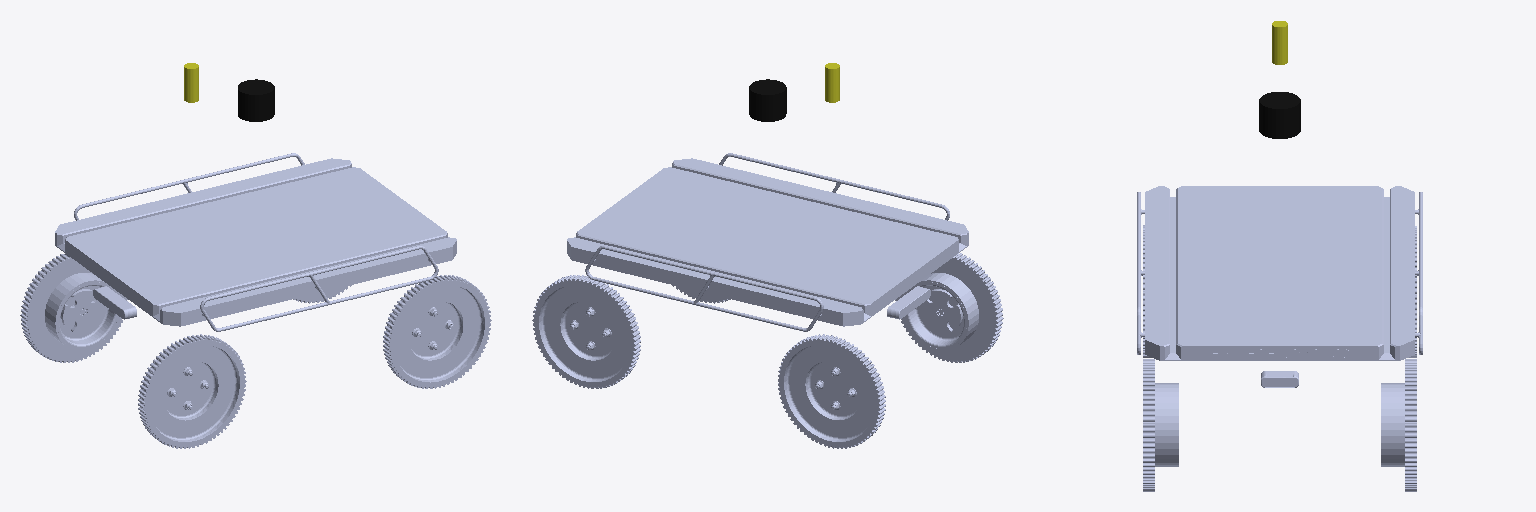
The robot description file, URDF, robot "cropMap_urdf":
<?xml version="1.0" ?>
<!-- =================================================================================== -->
<!-- |    This document was autogenerated by xacro from robot.urdf.xacro               | -->
<!-- |    EDITING THIS FILE BY HAND IS NOT RECOMMENDED                                 | -->
<!-- =================================================================================== -->
<robot name="cropMap_urdf">
  <!-- Base Link -->
  <link name="base_link">
    <inertial>
      <origin rpy="0 0 0" xyz="0.018582 -0.00058815 -0.099852"/>
      <mass value="32.31"/>
      <inertia ixx="0.92" ixy="0" ixz="0" iyy="3.12" iyz="0" izz="2.87"/>
    </inertial>
    <visual>
      <origin rpy="0 0 0" xyz="0 0 0"/>
      <geometry>
        <mesh filename="model://robot_description/meshes/base_link.STL"/>
      </geometry>
      <material name="">
        <color rgba="0.79216 0.81961 0.93333 1"/>
      </material>
    </visual>
    <collision>
      <origin rpy="0 0 0" xyz="0 0 0"/>
      <geometry>
        <mesh filename="model://robot_description/meshes/base_link.STL"/>
      </geometry>
    </collision>
  </link>
  <!-- Base Footprint -->
  <link name="base_footprint"/>
  <joint name="base_footprint_ref_joint" type="fixed">
    <origin rpy="0 0 0" xyz="0 0 .25"/>
    <parent link="base_footprint"/>
    <child link="base_link"/>
    <!-- Fixed typo: was "childggg" -->
    <axis xyz="0 1 0"/>
  </joint>
  <!-- Front Right Wheel -->
  <link name="wheel_front_right">
    <inertial>
      <origin rpy="0 0 0" xyz="-3.8916E-11 0.012822 1.02E-07"/>
      <mass value="2.5"/>
      <!-- Increased mass for better physics -->
      <inertia ixx="0.04" ixy="0.0" ixz="0.0" iyy="0.05" iyz="0.0" izz="0.04"/>
    </inertial>
    <visual>
      <origin rpy="0 0 0" xyz="0 0 0"/>
      <geometry>
        <mesh filename="model://robot_description/meshes/wheel_front_right.STL"/>
      </geometry>
      <material name="">
        <color rgba="0.79216 0.81961 0.93333 1"/>
      </material>
    </visual>
    <collision>
      <origin rpy="0 0 0" xyz="0 0 0"/>
      <geometry>
        <mesh filename="model://robot_description/meshes/wheel_front_right.STL"/>
      </geometry>
    </collision>
  </link>
  <joint name="wheel_front_right_joint" type="continuous">
    <origin rpy="0 0 0" xyz="0.37976 0.2802 -0.078259"/>
    <parent link="base_link"/>
    <child link="wheel_front_right"/>
    <axis xyz="0 1 0"/>
    <dynamics damping="0.1" friction="0.1"/>
  </joint>
  <!-- Back Right Wheel -->
  <link name="wheel_back_right">
    <inertial>
      <origin rpy="0 0 0" xyz="-3.8916E-11 0.012822 1.02E-07"/>
      <mass value="2.5"/>
      <inertia ixx="0.04" ixy="0.0" ixz="0.0" iyy="0.05" iyz="0.0" izz="0.04"/>
    </inertial>
    <visual>
      <origin rpy="0 0 0" xyz="0 0 0"/>
      <geometry>
        <mesh filename="model://robot_description/meshes/wheel_back_right.STL"/>
      </geometry>
      <material name="">
        <color rgba="0.79216 0.81961 0.93333 1"/>
      </material>
    </visual>
    <collision>
      <origin rpy="0 0 0" xyz="0 0 0"/>
      <geometry>
        <mesh filename="model://robot_description/meshes/wheel_back_right.STL"/>
      </geometry>
    </collision>
  </link>
  <joint name="wheel_back_right_joint" type="continuous">
    <origin rpy="0 0 0" xyz="-0.38026 0.2802 -0.078259"/>
    <parent link="base_link"/>
    <child link="wheel_back_right"/>
    <axis xyz="0 1 0"/>
    <dynamics damping="0.1" friction="0.1"/>
  </joint>
  <!-- Back Left Wheel -->
  <link name="wheel_back_left">
    <inertial>
      <origin rpy="0 0 0" xyz="-1.02E-07 -0.012822 3.8916E-11"/>
      <mass value="2.5"/>
      <inertia ixx="0.04" ixy="0.0" ixz="0.0" iyy="0.05" iyz="0.0" izz="0.04"/>
    </inertial>
    <visual>
      <origin rpy="0 0 0" xyz="0 0 0"/>
      <geometry>
        <mesh filename="model://robot_description/meshes/wheel_back_left.STL"/>
      </geometry>
      <material name="">
        <color rgba="0.79216 0.81961 0.93333 1"/>
      </material>
    </visual>
    <collision>
      <origin rpy="0 0 0" xyz="0 0 0"/>
      <geometry>
        <mesh filename="model://robot_description/meshes/wheel_back_left.STL"/>
      </geometry>
    </collision>
  </link>
  <joint name="wheel_back_left_joint" type="continuous">
    <origin rpy="0 0 0" xyz="-0.38026 -0.2802 -0.078259"/>
    <parent link="base_link"/>
    <child link="wheel_back_left"/>
    <axis xyz="0 1 0"/>
    <dynamics damping="0.1" friction="0.1"/>
  </joint>
  <!-- Front Left Wheel -->
  <link name="wheel_front_left">
    <inertial>
      <origin rpy="0 0 0" xyz="3.8916E-11 -0.012822 1.02E-07"/>
      <mass value="2.5"/>
      <inertia ixx="0.04" ixy="0.0" ixz="0.0" iyy="0.05" iyz="0.0" izz="0.04"/>
    </inertial>
    <visual>
      <origin rpy="0 0 0" xyz="0 0 0"/>
      <geometry>
        <mesh filename="model://robot_description/meshes/wheel_front_left.STL"/>
      </geometry>
      <material name="">
        <color rgba="0.79216 0.81961 0.93333 1"/>
      </material>
    </visual>
    <collision>
      <origin rpy="0 0 0" xyz="0 0 0"/>
      <geometry>
        <mesh filename="model://robot_description/meshes/wheel_front_left.STL"/>
      </geometry>
    </collision>
  </link>
  <joint name="wheel_front_left_joint" type="continuous">
    <origin rpy="0 0 0" xyz="0.37976 -0.2802 -0.078259"/>
    <parent link="base_link"/>
    <child link="wheel_front_left"/>
    <axis xyz="0 1 0"/>
    <dynamics damping="0.1" friction="0.1"/>
  </joint>
  <!-- Back Camera -->
  <link name="back_camera">
    <inertial>
      <origin rpy="0 0 0" xyz="-0.032487 0.0089676 -0.0027971"/>
      <mass value="0.2"/>
      <!-- Added mass for physics -->
      <inertia ixx="0.001" ixy="0.0" ixz="0.0" iyy="0.001" iyz="0.0" izz="0.001"/>
    </inertial>
    <visual>
      <origin rpy="0 0 0" xyz="0 0 0"/>
      <geometry>
        <mesh filename="model://robot_description/meshes/back_camera.STL"/>
      </geometry>
      <material name="">
        <color rgba="0.79216 0.81961 0.93333 1"/>
      </material>
    </visual>
  </link>
  <joint name="back_camera_joint" type="fixed">
    <origin rpy="0 0 0" xyz="-0.40479 -0.0089685 0.073466"/>
    <parent link="base_link"/>
    <child link="back_camera"/>
    <axis xyz="0 0 0"/>
  </joint>
  <!-- Front Camera -->
  <link name="front_camera">
    <inertial>
      <origin rpy="0 0 0" xyz="0.012395 -0.012586 0.0091516"/>
      <mass value="0.2"/>
      <!-- Added mass for physics -->
      <inertia ixx="0.001" ixy="0.0" ixz="0.0" iyy="0.001" iyz="0.0" izz="0.001"/>
    </inertial>
    <visual>
      <origin rpy="0 0 0" xyz="0 0 0"/>
      <geometry>
        <mesh filename="model://robot_description/meshes/front_camera.STL"/>
      </geometry>
      <material name="">
        <color rgba="0.79216 0.81961 0.93333 1"/>
      </material>
    </visual>
  </link>
  <joint name="front_camera_joint" type="fixed">
    <origin rpy="0 0 0" xyz="0.42423 0.0126 0.060602"/>
    <parent link="base_link"/>
    <child link="front_camera"/>
    <axis xyz="0 0 0"/>
  </joint>
  <!-- TC_V0 Component -->
  <link name="TC_V0">
    <inertial>
      <origin rpy="0 0 0" xyz="-7.5077E-05 -2.3538E-06 -0.015092"/>
      <mass value="14.01"/>
      <inertia ixx="0.66" ixy="0.0" ixz="0.0" iyy="1.01" iyz="0.0" izz="1.66"/>
    </inertial>
    <visual>
      <origin rpy="0 0 0" xyz="0 0 0"/>
      <geometry>
        <mesh filename="model://robot_description/meshes/TC_V0.STL"/>
      </geometry>
      <material name="">
        <color rgba="0.79216 0.81961 0.93333 1"/>
      </material>
    </visual>
    <collision>
      <origin rpy="0 0 0" xyz="0 0 0"/>
      <geometry>
        <mesh filename="model://robot_description/meshes/TC_V0.STL"/>
      </geometry>
    </collision>
  </link>
  <joint name="TC_V0_joint" type="fixed">
    <origin rpy="0 0 0" xyz="0 0 0.16825"/>
    <parent link="base_link"/>
    <child link="TC_V0"/>
    <axis xyz="0 0 0"/>
  </joint>
  <!-- Camera Dummy Links (keep existing) -->
  <link name="front_camera_dummy"/>
  <joint name="front_camera_dummy_joint" type="fixed">
    <origin rpy="-1.5708 0 -1.5708" xyz="0 0 0"/>
    <parent link="front_camera"/>
    <child link="front_camera_dummy"/>
    <axis xyz="1 0 0"/>
  </joint>
  <link name="back_camera_dummy"/>
  <joint name="back_camera_dummy_joint" type="fixed">
    <origin rpy="-1.5708 0 1.5708" xyz="0 0 0"/>
    <parent link="back_camera"/>
    <child link="back_camera_dummy"/>
    <axis xyz="1 0 0"/>
  </joint>
  <!-- ========================================= -->
  <!-- ADDED SENSORS -->
  <!-- ========================================= -->
  <!-- Lidar Sensor -->
  <link name="lidar_link">
    <inertial>
      <origin rpy="0 0 0" xyz="0 0 0"/>
      <mass value="0.8"/>
      <inertia ixx="0.01" ixy="0.0" ixz="0.0" iyy="0.01" iyz="0.0" izz="0.01"/>
    </inertial>
    <visual>
      <origin rpy="0 0 0" xyz="0 0 0"/>
      <geometry>
        <cylinder length="0.08" radius="0.05"/>
      </geometry>
      <material name="lidar_black">
        <color rgba="0.1 0.1 0.1 1.0"/>
      </material>
    </visual>
    <collision>
      <origin rpy="0 0 0" xyz="0 0 0"/>
      <geometry>
        <cylinder length="0.08" radius="0.05"/>
      </geometry>
    </collision>
  </link>
  <joint name="lidar_joint" type="fixed">
    <origin rpy="0 0 0" xyz="0 0 0.4"/>
    <!-- Mounted on top of robot -->
    <parent link="TC_V0"/>
    <child link="lidar_link"/>
  </joint>
  <!-- IMU Sensor -->
  <!-- IMU Sensor -->
  <link name="imu_link">
    <inertial>
      <origin rpy="0 0 0" xyz="0 0 0"/>
      <mass value="0.1"/>
      <inertia ixx="0.0001" ixy="0.0" ixz="0.0" iyy="0.0001" iyz="0.0" izz="0.0001"/>
    </inertial>
    <visual>
      <origin rpy="0 0 0" xyz="0 0 0"/>
      <geometry>
        <box size="0.05 0.05 0.02"/>
      </geometry>
      <material name="imu_green">
        <color rgba="0.2 0.8 0.2 1.0"/>
      </material>
    </visual>
    <collision>
      <origin rpy="0 0 0" xyz="0 0 0"/>
      <geometry>
        <box size="0.05 0.05 0.02"/>
      </geometry>
    </collision>
  </link>
  <joint name="imu_joint" type="fixed">
    <origin rpy="0 0 0" xyz="0 0 0.1"/>
    <parent link="base_link"/>
    <child link="imu_link"/>
  </joint>
  <!-- GPS Antenna -->
  <link name="gps_link">
    <inertial>
      <origin rpy="0 0 0" xyz="0 0 0"/>
      <mass value="0.05"/>
      <inertia ixx="0.0001" ixy="0.0" ixz="0.0" iyy="0.0001" iyz="0.0" izz="0.0001"/>
    </inertial>
    <visual>
      <origin rpy="0 0 0" xyz="0 0 0"/>
      <geometry>
        <cylinder length="0.1" radius="0.02"/>
      </geometry>
      <material name="gps_yellow">
        <color rgba="0.8 0.8 0.2 1.0"/>
      </material>
    </visual>
    <collision>
      <origin rpy="0 0 0" xyz="0 0 0"/>
      <geometry>
        <cylinder length="0.1" radius="0.02"/>
      </geometry>
    </collision>
  </link>
  <joint name="gps_joint" type="fixed">
    <origin rpy="0 0 0" xyz="-0.2 0 0.5"/>
    <!-- Behind lidar -->
    <parent link="TC_V0"/>
    <child link="gps_link"/>
  </joint>
  <!-- ========================================= -->
  <!-- GAZEBO FORTRESS PLUGINS -->
  <!-- ========================================= -->
  <gazebo>
    <!-- Skid Steering Drive Plugin using Differential Drive for 4 wheels -->
    <plugin filename="libignition-gazebo-diff-drive-system.so" name="ignition::gazebo::systems::DiffDrive">
      <!-- Left side wheels -->
      <left_joint>wheel_front_left_joint</left_joint>
      <left_joint>wheel_back_left_joint</left_joint>
      <!-- Right side wheels -->
      <right_joint>wheel_front_right_joint</right_joint>
      <right_joint>wheel_back_right_joint</right_joint>
      <!-- Robot dimensions (calculated from your URDF) -->
      <wheel_separation>0.5604</wheel_separation>
      <!-- Distance between left and right wheels -->
      <wheel_radius>0.1</wheel_radius>
      <!-- Approximate wheel radius -->
      <!-- Control topics -->
      <topic>cmd_vel</topic>
      <odom_topic>odom</odom_topic>
      <!-- Reference frames -->
      <frame_id>odom</frame_id>
      <child_frame_id>base_footprint</child_frame_id>
      <!-- Publishing settings -->
      <odom_publish_frequency>50</odom_publish_frequency>
      <publish_odom>true</publish_odom>
      <publish_odom_tf>true</publish_odom_tf>
      <publish_wheel_tf>false</publish_wheel_tf>
      <!-- Performance limits -->
      <max_linear_velocity>2.0</max_linear_velocity>
      <min_linear_velocity>-1.0</min_linear_velocity>
      <max_angular_velocity>2.0</max_angular_velocity>
      <min_angular_velocity>-2.0</min_angular_velocity>
      <max_linear_acceleration>1.0</max_linear_acceleration>
      <max_angular_acceleration>2.0</max_angular_acceleration>
    </plugin>
    <!-- Joint State Publisher -->
    <plugin filename="libignition-gazebo-joint-state-publisher-system.so" name="ignition::gazebo::systems::JointStatePublisher">
      <topic>joint_states</topic>
    </plugin>
    <!-- Pose Publisher -->
    <plugin filename="libignition-gazebo-pose-publisher-system.so" name="ignition::gazebo::systems::PosePublisher">
      <publish_link_pose>true</publish_link_pose>
      <publish_collision_pose>false</publish_collision_pose>
      <publish_visual_pose>false</publish_visual_pose>
      <use_pose_vector_msg>true</use_pose_vector_msg>
    </plugin>
  </gazebo>
  <!-- Lidar Sensor Plugin -->
  <gazebo reference="lidar_link">
    <sensor name="lidar_sensor" type="lidar">
      <pose>0 0 0 0 0 0</pose>
      <topic>scan</topic>
      <update_rate>20</update_rate>
      <ray>
        <scan>
          <horizontal>
            <samples>720</samples>
            <resolution>1</resolution>
            <min_angle>-3.14159</min_angle>
            <max_angle>3.14159</max_angle>
          </horizontal>
        </scan>
        <range>
          <min>0.1</min>
          <max>15.0</max>
          <resolution>0.01</resolution>
        </range>
        <noise>
          <type>gaussian</type>
          <mean>0.0</mean>
          <stddev>0.02</stddev>
        </noise>
      </ray>
      <plugin filename="libignition-gazebo-sensors-system.so" name="ignition::gazebo::systems::Sensors">
        <render_engine>ogre2</render_engine>
      </plugin>
    </sensor>
  </gazebo>
  <!-- Front Camera Plugin -->
  <gazebo reference="front_camera_dummy">
    <sensor name="front_camera_sensor" type="camera">
      <pose>0 0 0 0 0 0</pose>
      <topic>front_camera/image_raw</topic>
      <update_rate>30</update_rate>
      <camera>
        <horizontal_fov>1.047</horizontal_fov>
        <image>
          <width>1920</width>
          <height>1080</height>
          <format>R8G8B8</format>
        </image>
        <clip>
          <near>0.1</near>
          <far>100</far>
        </clip>
        <noise>
          <type>gaussian</type>
          <mean>0.0</mean>
          <stddev>0.007</stddev>
        </noise>
      </camera>
      <plugin filename="libignition-gazebo-sensors-system.so" name="ignition::gazebo::systems::Sensors">
        <render_engine>ogre2</render_engine>
      </plugin>
    </sensor>
  </gazebo>
  <!-- Back Camera Plugin -->
  <gazebo reference="back_camera_dummy">
    <sensor name="back_camera_sensor" type="camera">
      <pose>0 0 0 0 0 0</pose>
      <topic>back_camera/image_raw</topic>
      <update_rate>30</update_rate>
      <camera>
        <horizontal_fov>1.047</horizontal_fov>
        <image>
          <width>1920</width>
          <height>1080</height>
          <format>R8G8B8</format>
        </image>
        <clip>
          <near>0.1</near>
          <far>100</far>
        </clip>
        <noise>
          <type>gaussian</type>
          <mean>0.0</mean>
          <stddev>0.007</stddev>
        </noise>
      </camera>
      <plugin filename="libignition-gazebo-sensors-system.so" name="ignition::gazebo::systems::Sensors">
        <render_engine>ogre2</render_engine>
      </plugin>
    </sensor>
  </gazebo>
  <!-- IMU Sensor Plugin -->
  <gazebo reference="imu_link">
    <sensor name="imu_sensor" type="imu">
      <pose>0 0 0 0 0 0</pose>
      <topic>imu</topic>
      <update_rate>100</update_rate>
      <imu>
        <angular_velocity>
          <x>
            <noise type="gaussian">
              <mean>0.0</mean>
              <stddev>2e-4</stddev>
            </noise>
          </x>
          <y>
            <noise type="gaussian">
              <mean>0.0</mean>
              <stddev>2e-4</stddev>
            </noise>
          </y>
          <z>
            <noise type="gaussian">
              <mean>0.0</mean>
              <stddev>2e-4</stddev>
            </noise>
          </z>
        </angular_velocity>
        <linear_acceleration>
          <x>
            <noise type="gaussian">
              <mean>0.0</mean>
              <stddev>1.7e-2</stddev>
            </noise>
          </x>
          <y>
            <noise type="gaussian">
              <mean>0.0</mean>
              <stddev>1.7e-2</stddev>
            </noise>
          </y>
          <z>
            <noise type="gaussian">
              <mean>0.0</mean>
              <stddev>1.7e-2</stddev>
            </noise>
          </z>
        </linear_acceleration>
      </imu>
      <plugin filename="libignition-gazebo-sensors-system.so" name="ignition::gazebo::systems::Sensors">
        <render_engine>ogre2</render_engine>
      </plugin>
    </sensor>
  </gazebo>
  <!-- GPS Sensor Plugin -->
  <gazebo reference="gps_link">
    <sensor name="gps_sensor" type="navsat">
      <pose>0 0 0 0 0 0</pose>
      <topic>gps/fix</topic>
      <update_rate>5</update_rate>
      <navsat>
        <position_sensing>
          <horizontal>
            <noise type="gaussian">
              <mean>0.0</mean>
              <stddev>2e-4</stddev>
            </noise>
          </horizontal>
          <vertical>
            <noise type="gaussian">
              <mean>0.0</mean>
              <stddev>2e-4</stddev>
            </noise>
          </vertical>
        </position_sensing>
        <velocity_sensing>
          <horizontal>
            <noise type="gaussian">
              <mean>0.0</mean>
              <stddev>1e-3</stddev>
            </noise>
          </horizontal>
          <vertical>
            <noise type="gaussian">
              <mean>0.0</mean>
              <stddev>1e-3</stddev>
            </noise>
          </vertical>
        </velocity_sensing>
      </navsat>
      <plugin filename="libignition-gazebo-sensors-system.so" name="ignition::gazebo::systems::Sensors">
        <render_engine>ogre2</render_engine>
      </plugin>
    </sensor>
  </gazebo>
  <!-- Wheel Physics Properties -->
  <gazebo reference="wheel_front_left">
    <material>Gazebo/DarkGrey</material>
    <mu1>0.8</mu1>
    <mu2>0.8</mu2>
    <fdir1>1 0 0</fdir1>
    <slip1>0.1</slip1>
    <slip2>0.1</slip2>
  </gazebo>
  <gazebo reference="wheel_front_right">
    <material>Gazebo/DarkGrey</material>
    <mu1>0.8</mu1>
    <mu2>0.8</mu2>
    <fdir1>1 0 0</fdir1>
    <slip1>0.1</slip1>
    <slip2>0.1</slip2>
  </gazebo>
  <gazebo reference="wheel_back_left">
    <material>Gazebo/DarkGrey</material>
    <mu1>0.8</mu1>
    <mu2>0.8</mu2>
    <fdir1>1 0 0</fdir1>
    <slip1>0.1</slip1>
    <slip2>0.1</slip2>
  </gazebo>
  <gazebo reference="wheel_back_right">
    <material>Gazebo/DarkGrey</material>
    <mu1>0.8</mu1>
    <mu2>0.8</mu2>
    <fdir1>1 0 0</fdir1>
    <slip1>0.1</slip1>
    <slip2>0.1</slip2>
  </gazebo>
  <!-- Base Link Material -->
  <gazebo reference="base_link">
    <material>Gazebo/Blue</material>
  </gazebo>
</robot>

--- Render facts (derived) ---
Views: 3 orthographic renders of the robot side by side, from view 1: azimuth 30°, elevation 25°; view 2: azimuth 150°, elevation 25°; view 3: azimuth 270°, elevation 25°.
Robot: cropMap_urdf — 14 links, 13 joints (4 continuous, 9 fixed); root link base_footprint; default pose: every joint at zero.
Links seen in each view (by area): view 1: TC_V0, wheel_back_left, wheel_front_left, wheel_back_right, lidar_link, back_camera, gps_link; view 2: TC_V0, wheel_back_right, wheel_front_right, wheel_back_left, lidar_link, back_camera, gps_link; view 3: TC_V0, wheel_front_right, wheel_front_left, lidar_link, gps_link, front_camera.
Link boxes in pixels (x1,y1,x2,y2): TC_V0: (55,153,456,331); wheel_back_left: (138,334,246,448); wheel_front_left: (383,275,491,388); wheel_back_right: (20,253,127,362); lidar_link: (238,79,274,121); back_camera: (93,286,136,319); gps_link: (184,63,198,102); TC_V0: (567,153,968,331); wheel_back_right: (778,334,885,448); wheel_front_right: (532,275,640,388); wheel_back_left: (895,253,1003,362); lidar_link: (749,79,786,121); back_camera: (887,286,930,319); gps_link: (825,63,839,102); TC_V0: (1137,186,1422,360); wheel_front_right: (1381,359,1416,491); wheel_front_left: (1143,359,1178,491); lidar_link: (1259,92,1300,138); gps_link: (1272,21,1287,64); front_camera: (1261,371,1298,387).
Size in the robot's own frame: 1.08 by 0.69 by 0.9565 metres.
7 mesh visuals loaded from 8 distinct referenced files (7 binary STL); not drawn: 1 (file found but could not be loaded).
